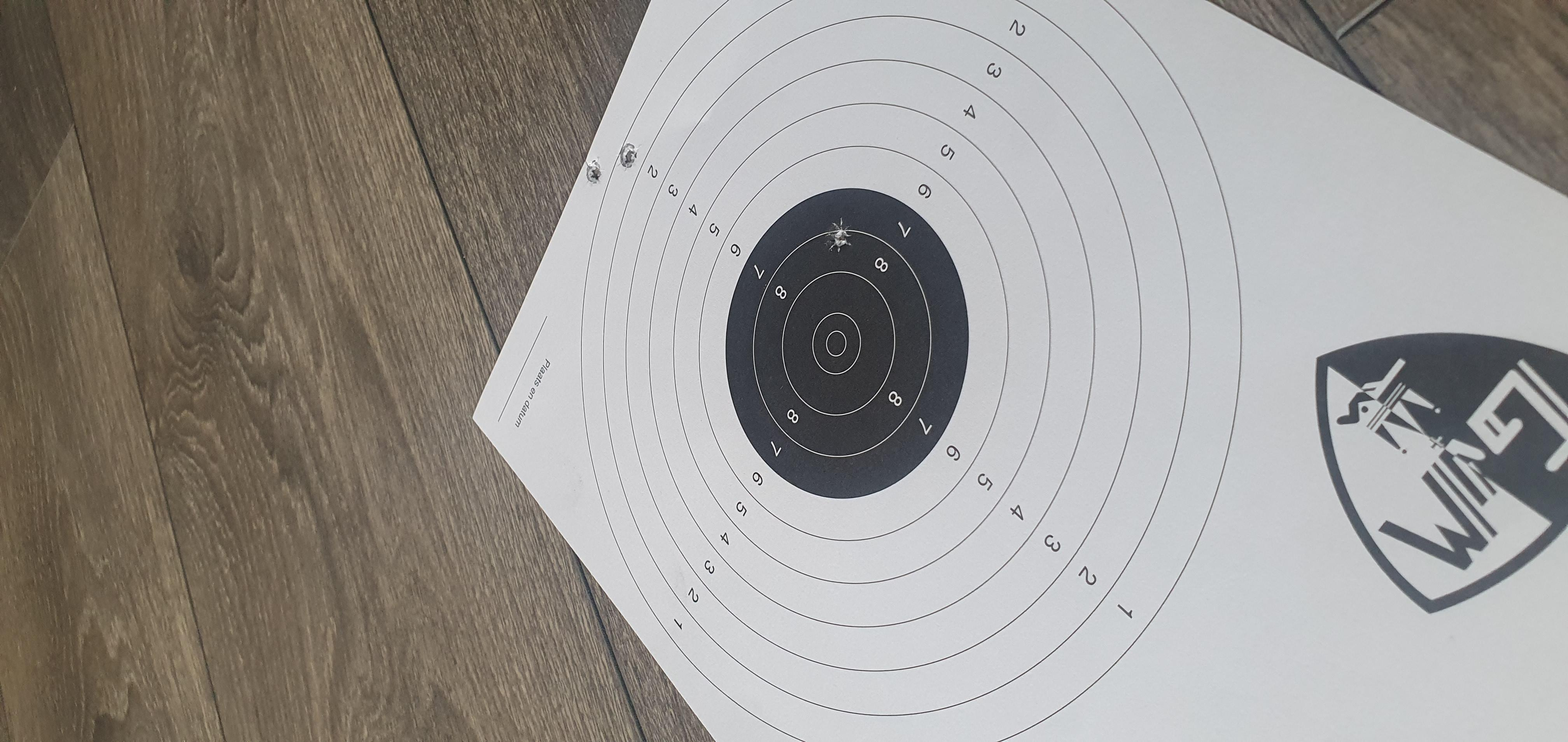hole: (1033, 389, 1104, 405), (1207, 292, 1271, 303), (1169, 276, 1235, 286)
